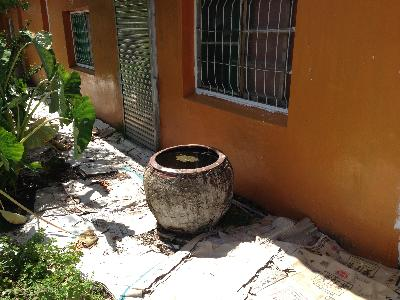bowl: (143, 144, 236, 234)
